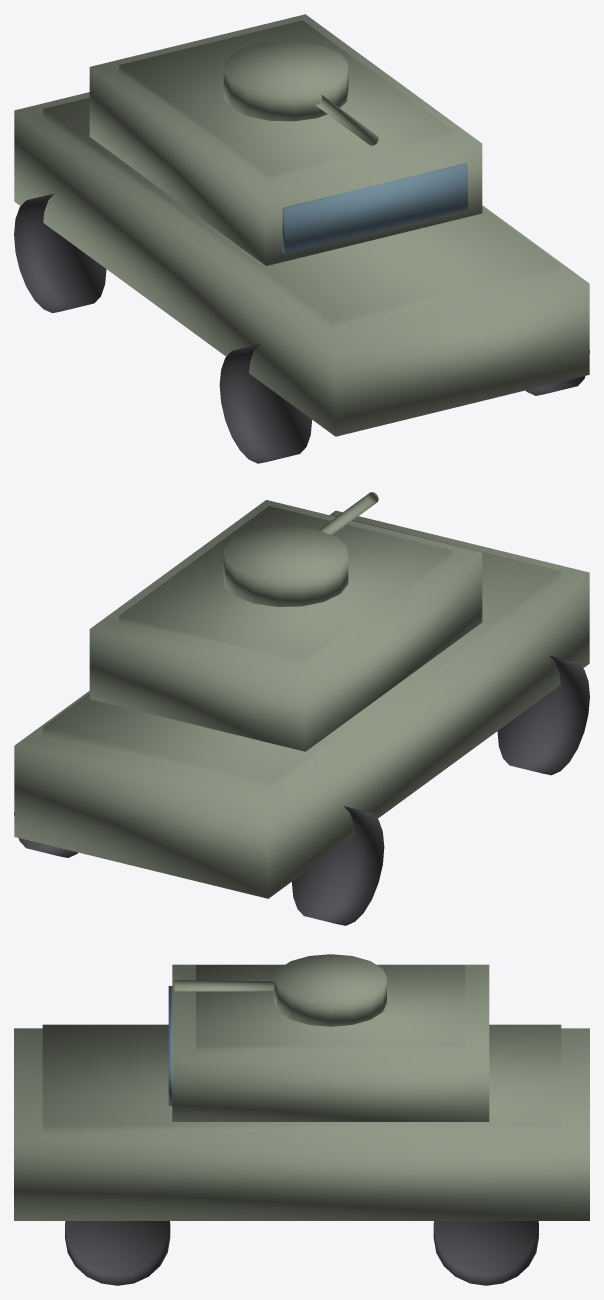
Rendered from armored_vehicle.glb.
3 views of the same model, one above another, from view 1: azimuth 30°, elevation 25°; view 2: azimuth 150°, elevation 25°; view 3: azimuth 270°, elevation 25° (orthographic). The views are drawn at different scales.
Parts seen in each view (by area): view 1: ArmoredVehicle; view 2: ArmoredVehicle; view 3: ArmoredVehicle.
Part boxes in pixels (<box>): ArmoredVehicle: <box>14,14,589,463</box>; ArmoredVehicle: <box>14,492,589,925</box>; ArmoredVehicle: <box>14,954,589,1285</box>.
Size of the model in its own units: 2.58 by 2.11 by 4.6.
